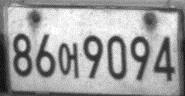0: (107, 35, 127, 81)
4: (152, 36, 177, 83)
6: (35, 32, 56, 77)
8: (12, 33, 34, 77)
9: (82, 35, 104, 79), (130, 35, 150, 81)
어: (58, 41, 80, 80)
